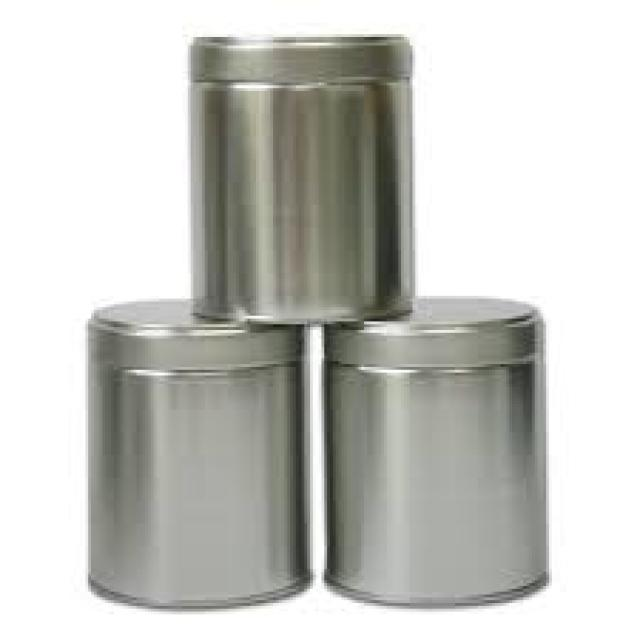metal: (322, 293, 546, 603), (83, 301, 310, 606), (182, 31, 412, 319)
